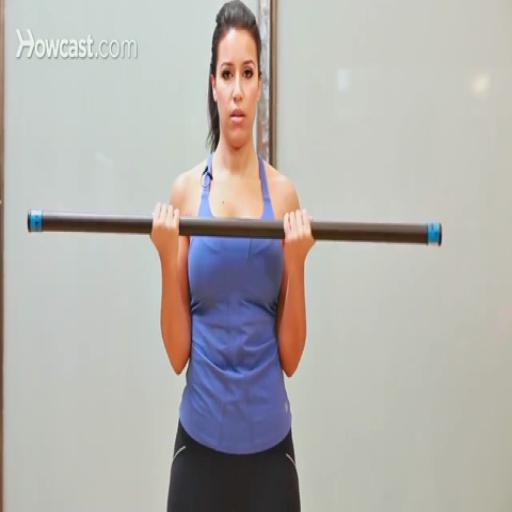exercise: (147, 0, 317, 511)
